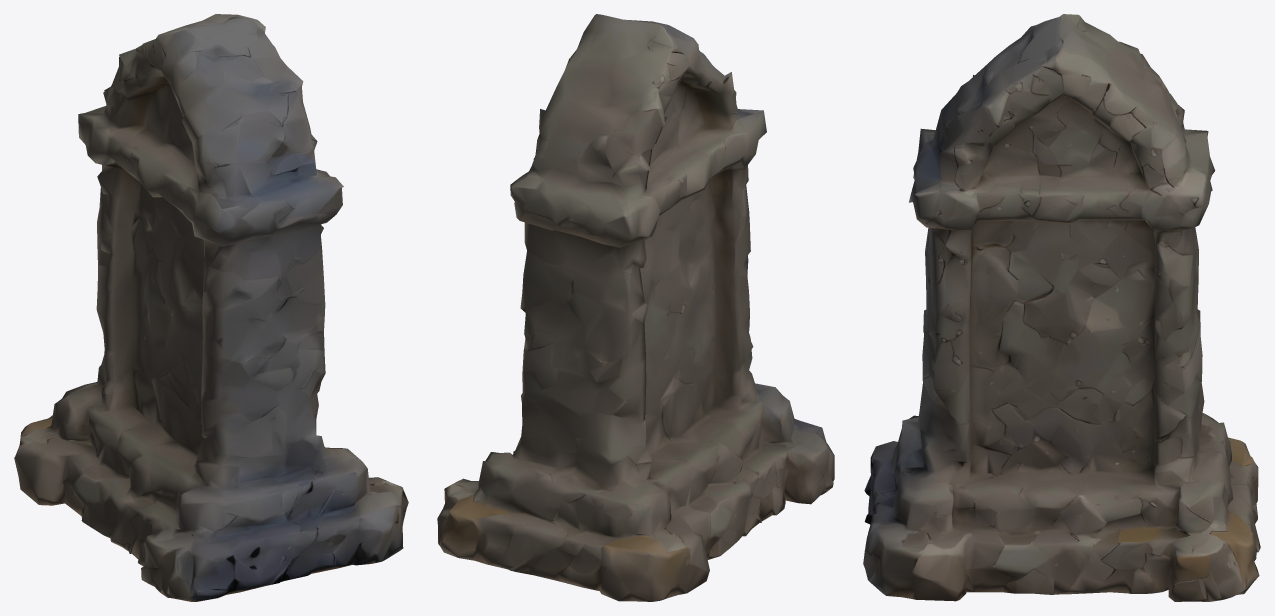
File: gravestone.glb
The picture shows the model from 3 angles, left to right: view 1: azimuth 30°, elevation 25°; view 2: azimuth 150°, elevation 25°; view 3: azimuth 270°, elevation 25°; orthographic projection. The views are drawn at different scales.
Parts seen in each view (by area): view 1: tripo_node_442932ba-883c-4838-8b49-5313d64d75b4; view 2: tripo_node_442932ba-883c-4838-8b49-5313d64d75b4; view 3: tripo_node_442932ba-883c-4838-8b49-5313d64d75b4.
Part boxes in pixels (left/top/right/bottom): tripo_node_442932ba-883c-4838-8b49-5313d64d75b4: left=14, top=14, right=408, bottom=601; tripo_node_442932ba-883c-4838-8b49-5313d64d75b4: left=437, top=14, right=834, bottom=601; tripo_node_442932ba-883c-4838-8b49-5313d64d75b4: left=863, top=14, right=1260, bottom=601.
Size of the model in its own units: 0.5313 by 1 by 0.6999.
1 material, 1 textured.
